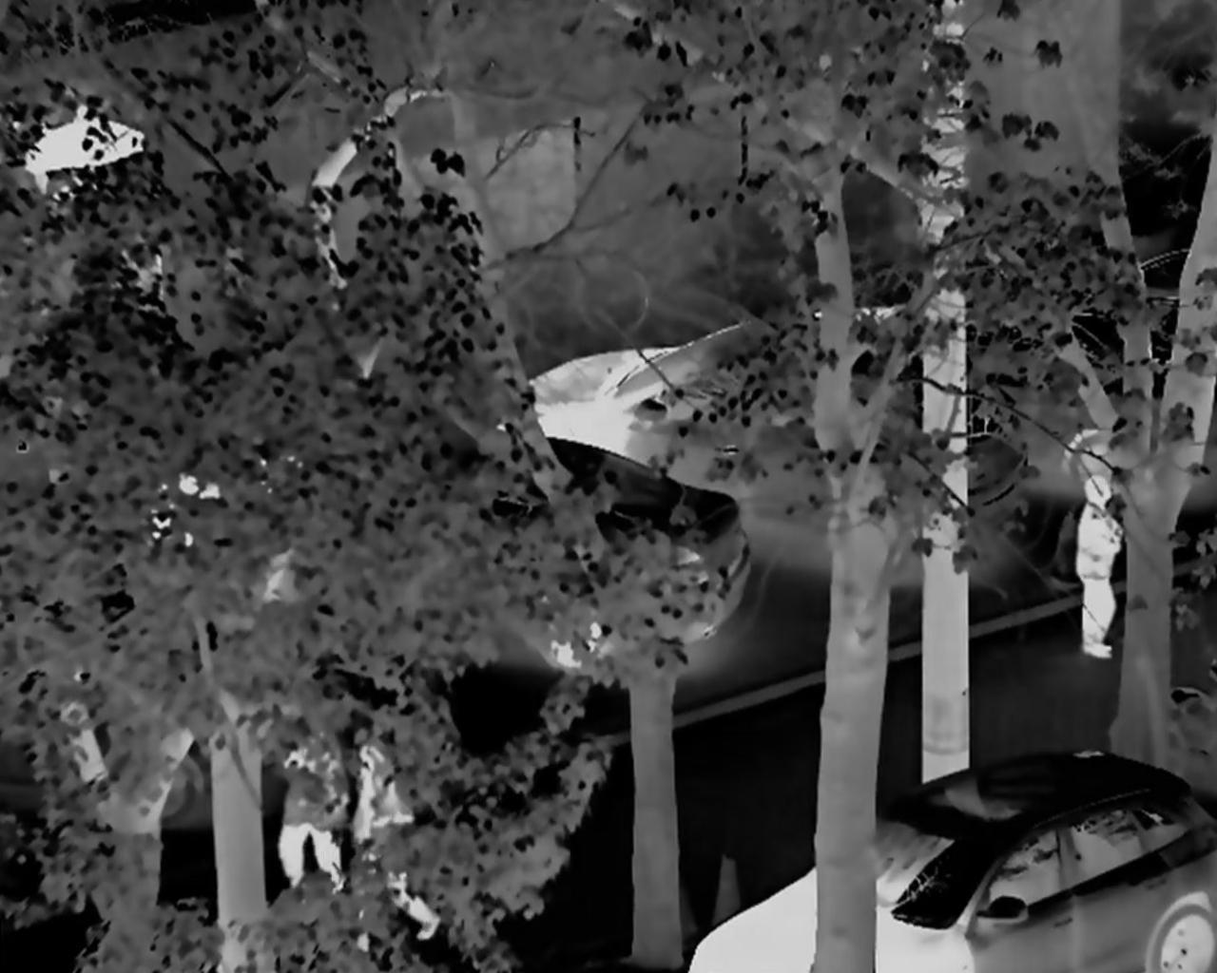person: (345, 742, 435, 958), (265, 729, 344, 896), (1062, 463, 1123, 663)
